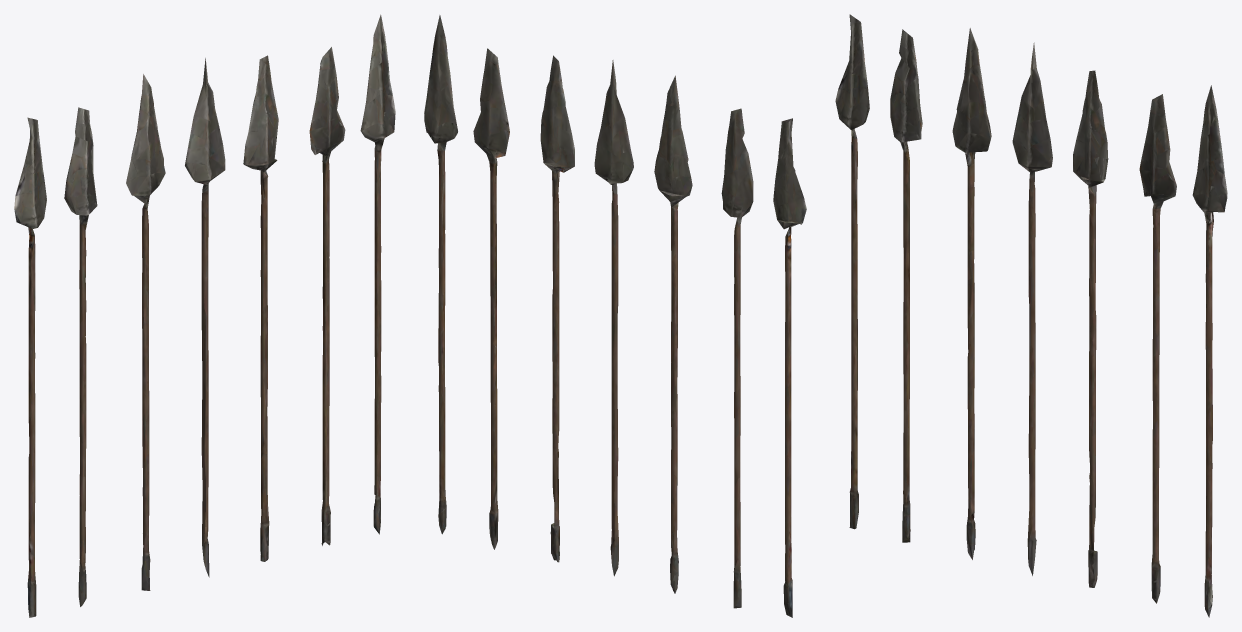
File: obj_spear_trap.glb
3 renders of one model, left to right at view 1: azimuth 30°, elevation 25°; view 2: azimuth 150°, elevation 25°; view 3: azimuth 330°, elevation 25°, orthographic. The views are drawn at different scales.
Visible parts, largest first — view 1: Spear Trap; view 2: Spear Trap; view 3: Spear Trap.
Boxes of the visible parts, x1,y1,x2,y2 form: Spear Trap: [14, 14, 395, 617]; Spear Trap: [424, 15, 806, 617]; Spear Trap: [835, 14, 1227, 617].
Bounding box in the file's own units: 1.5 × 1.95 × 0.0727.
1 material, 1 textured.
